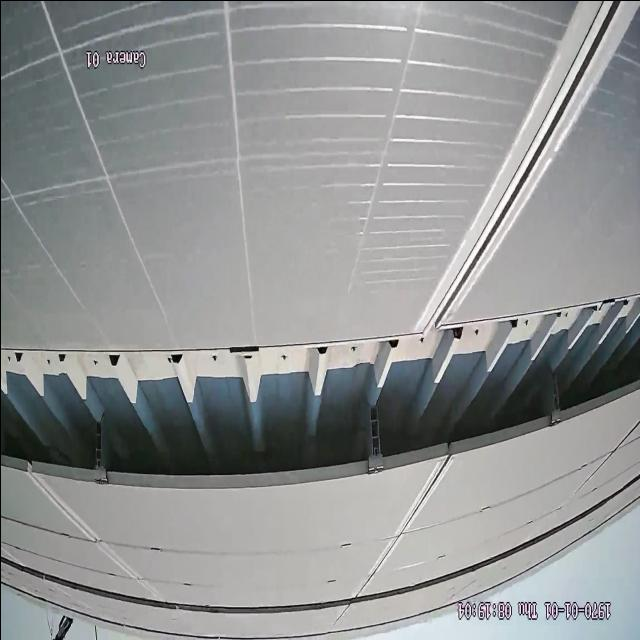interior panel: (421, 1, 639, 319), (33, 479, 148, 588), (361, 460, 451, 575)
outher panel: (1, 292, 640, 483)
